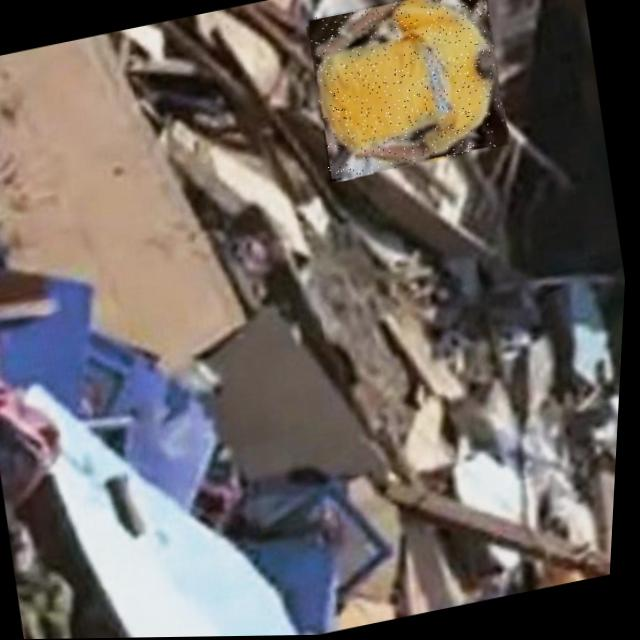Person in Rubble: (299, 0, 515, 183)
